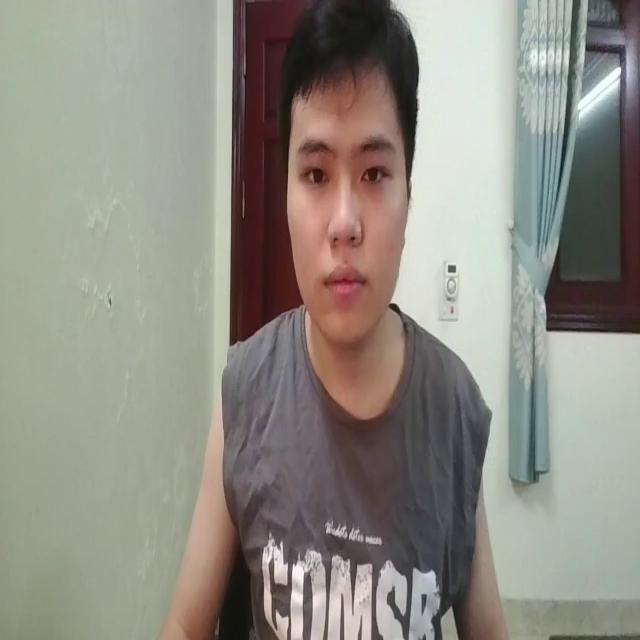student: (162, 2, 512, 640)
